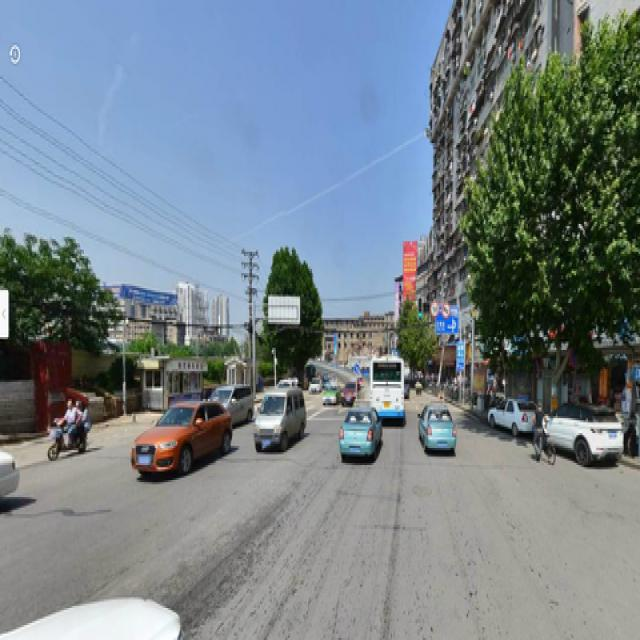meta: (497, 100, 616, 427)
